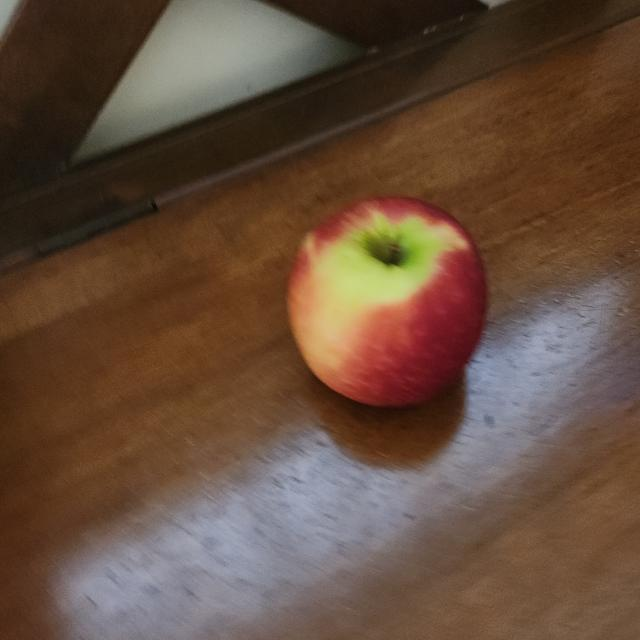apple: (274, 184, 490, 424)
